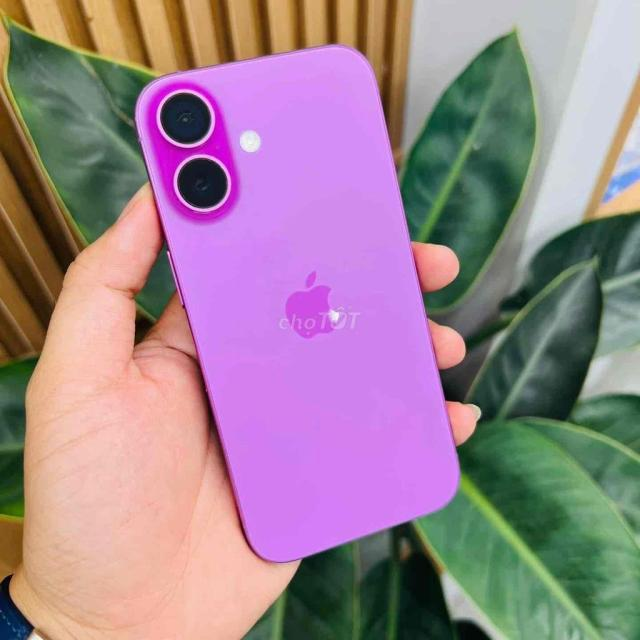gen_16: (136, 46, 459, 561)
